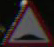Speed Breaker ahead: (2, 2, 48, 38)
